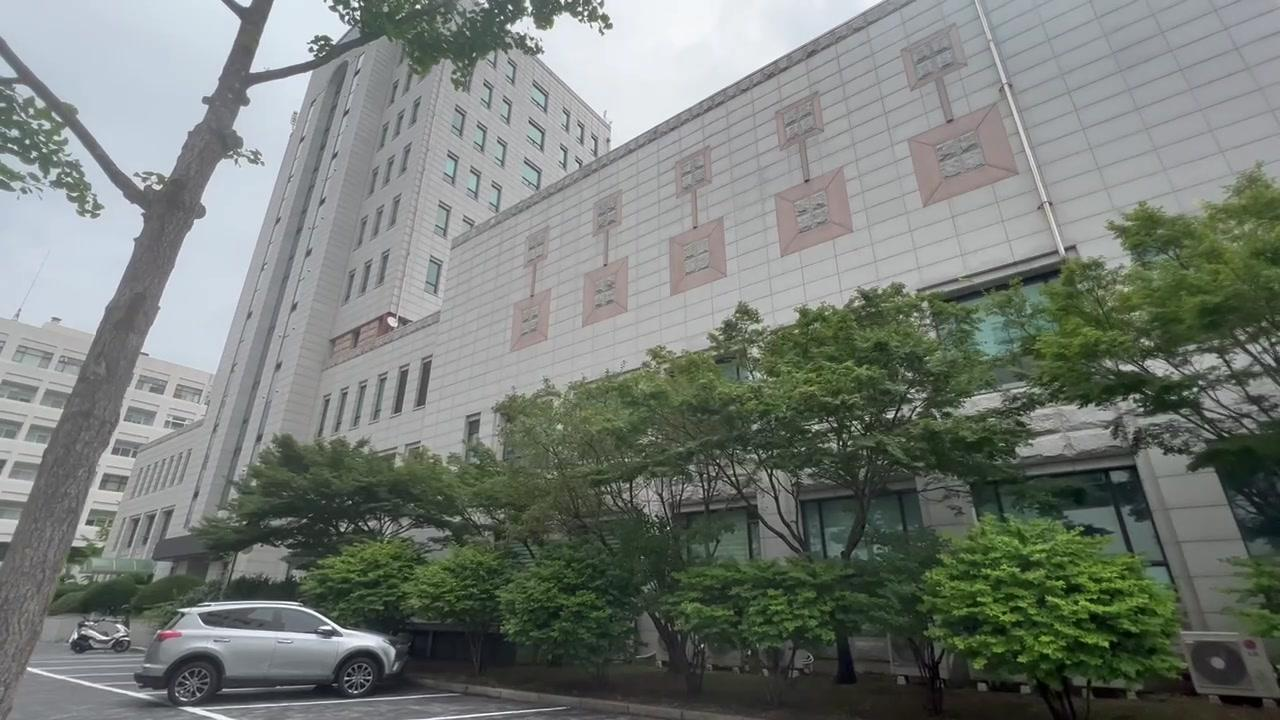building: (273, 84, 1039, 318)
